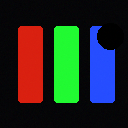2 circle: (97, 23, 123, 49)
